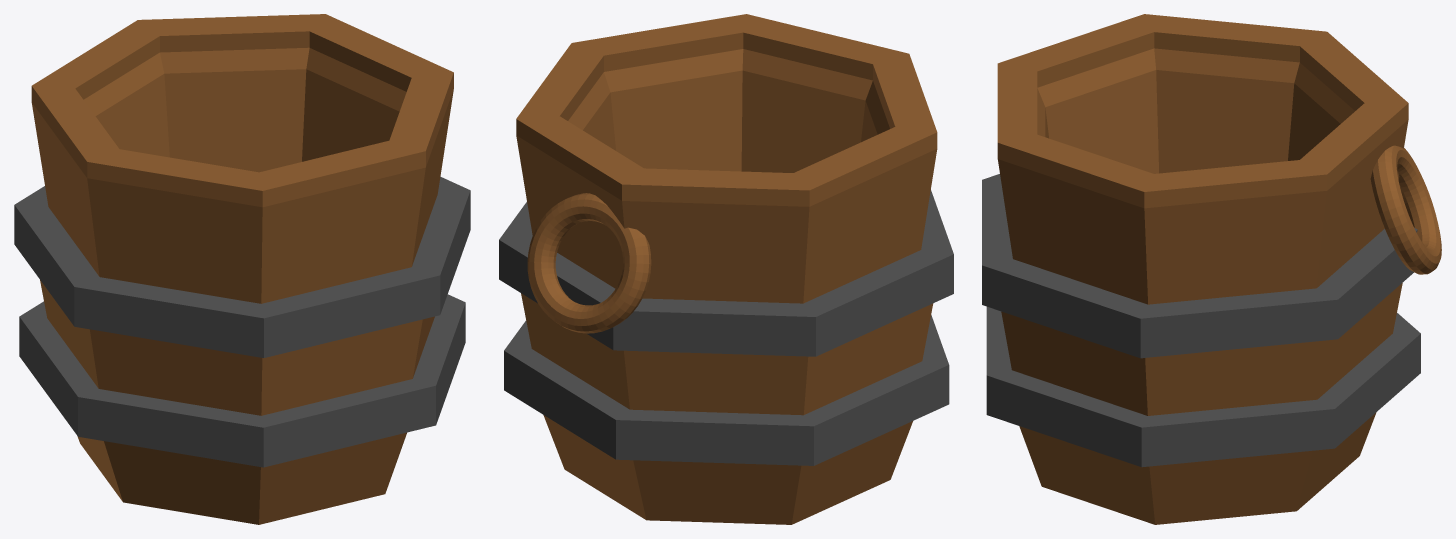
The model's file is F_Bucket.fbx.
3 renders of one model, left to right at view 1: azimuth 30°, elevation 25°; view 2: azimuth 150°, elevation 25°; view 3: azimuth 270°, elevation 25°, orthographic.
Parts seen in each view (by area): view 1: F_Bucket; view 2: F_Bucket; view 3: F_Bucket.
Part boxes in pixels (<box>): F_Bucket: <box>14,14,470,524</box>; F_Bucket: <box>499,14,953,524</box>; F_Bucket: <box>982,14,1441,524</box>.
Bounding box in the file's own units: 39.2 × 33.54 × 39.58.
